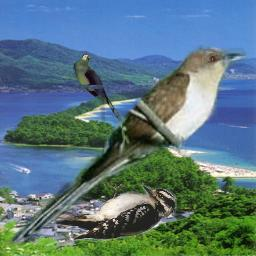Cuckoo: (6, 45, 253, 254), (73, 54, 125, 122)
Woodpecker: (52, 183, 183, 245)
